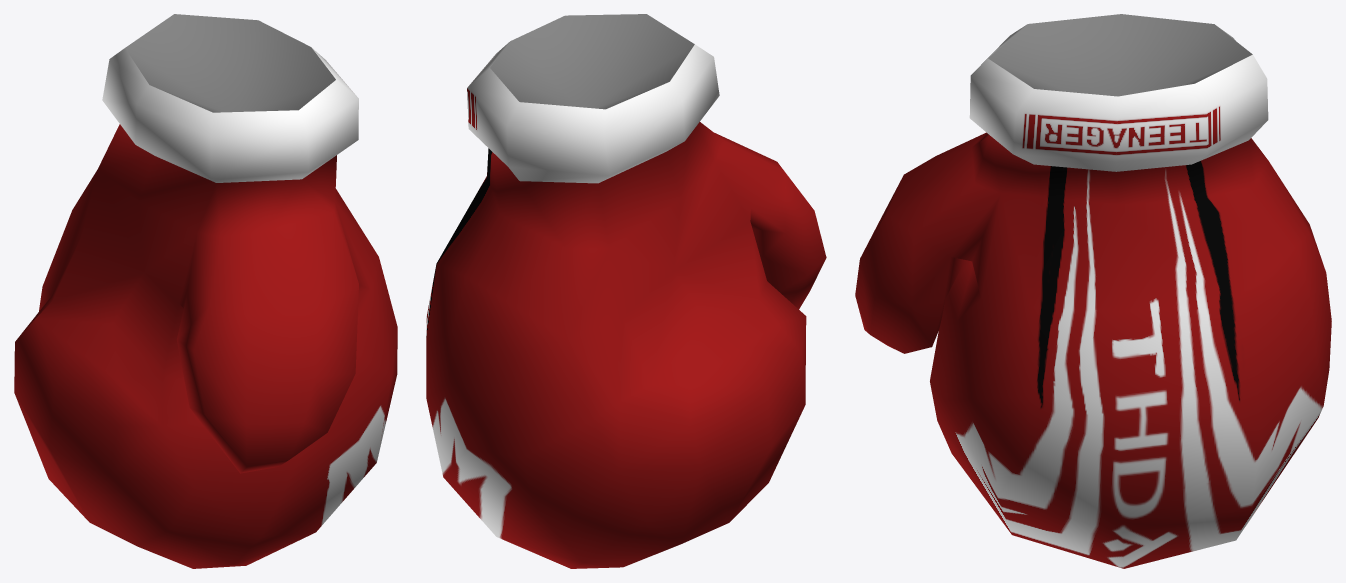
Rendered from W008_0100_Skin.FBX.
3 views of the same model, side by side, from view 1: azimuth 30°, elevation 25°; view 2: azimuth 150°, elevation 25°; view 3: azimuth 270°, elevation 25° (orthographic). The views are drawn at different scales.
Visible parts, largest first — view 1: W008_0100; view 2: W008_0100; view 3: W008_0100.
Part boxes in pixels (x1,y1,x2,y2): W008_0100: (14, 14, 397, 568); W008_0100: (426, 14, 826, 568); W008_0100: (855, 14, 1331, 568).
Size of the model in its own units: 18.12 by 26.26 by 22.14.
